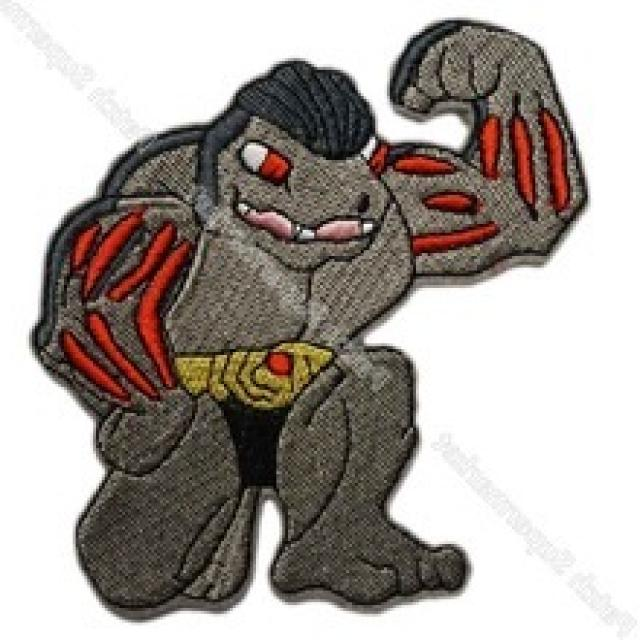Machoke: (51, 25, 591, 604)
